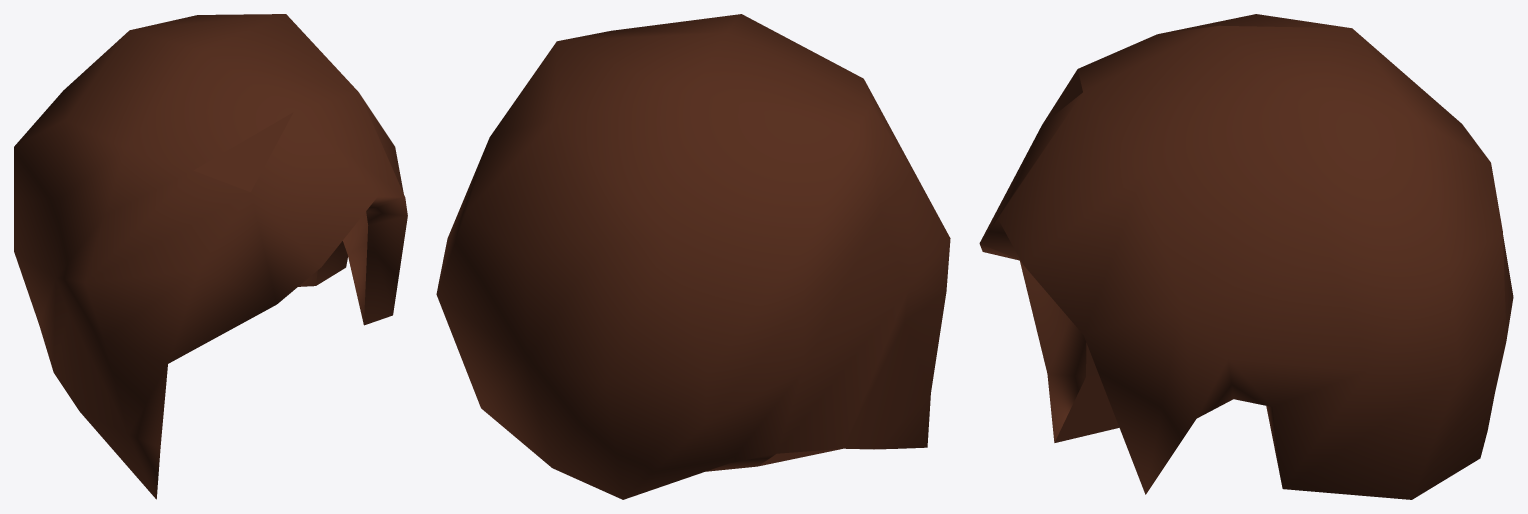
Rendered from HairKarenLightBrown.fbx.
3 renders of one model, left to right at view 1: azimuth 30°, elevation 25°; view 2: azimuth 150°, elevation 25°; view 3: azimuth 270°, elevation 25°, orthographic. The views are drawn at different scales.
Parts seen in each view (by area): view 1: HairKarenLightBrown; view 2: HairKarenLightBrown; view 3: HairKarenLightBrown.
Part boxes in pixels (box(x1,y1,x2,y2)): HairKarenLightBrown: box(14, 14, 407, 499); HairKarenLightBrown: box(436, 14, 950, 499); HairKarenLightBrown: box(979, 14, 1513, 499).
Size of the model in its own units: 55.77 by 59.13 by 58.89.
